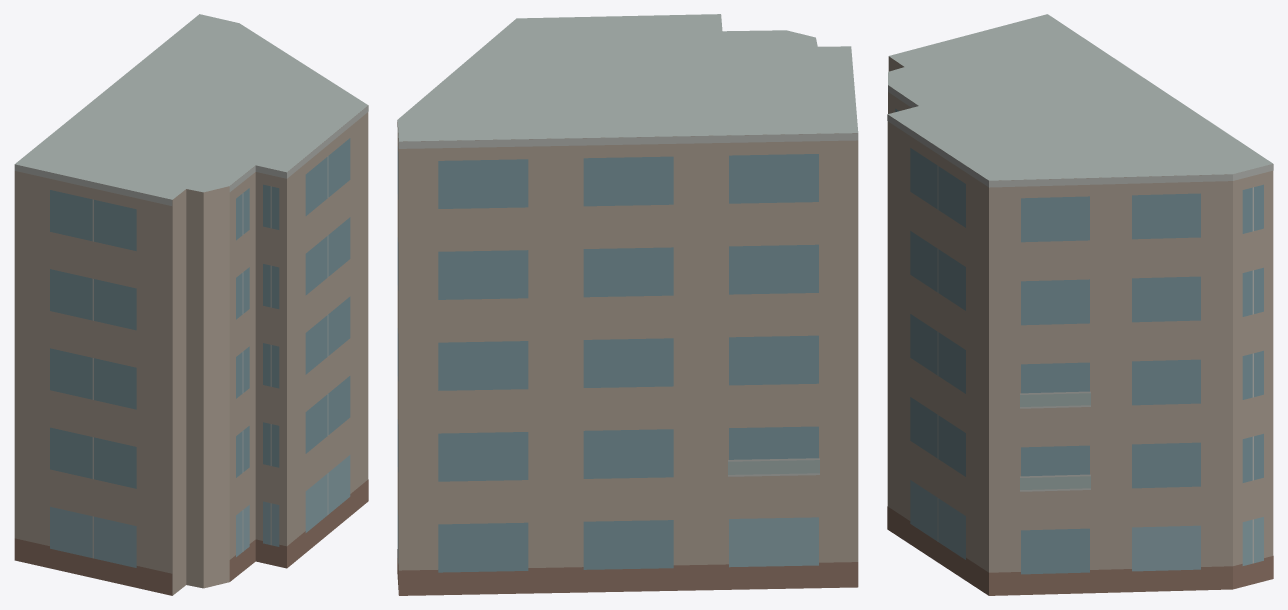
The model's file is survey-upis-32872559.glb.
3 views of the same model, side by side, from view 1: azimuth 30°, elevation 25°; view 2: azimuth 150°, elevation 25°; view 3: azimuth 270°, elevation 25° (orthographic). The views are drawn at different scales.
Visible parts, largest first — view 1: survey-upis-32872559.tmp; view 2: survey-upis-32872559.tmp; view 3: survey-upis-32872559.tmp.
Boxes of the visible parts, x1,y1,x2,y2 form: survey-upis-32872559.tmp: (14, 14, 368, 595); survey-upis-32872559.tmp: (397, 14, 858, 595); survey-upis-32872559.tmp: (887, 14, 1273, 595).
Bounding box in the file's own units: 12.84 × 14.9 × 12.56.
